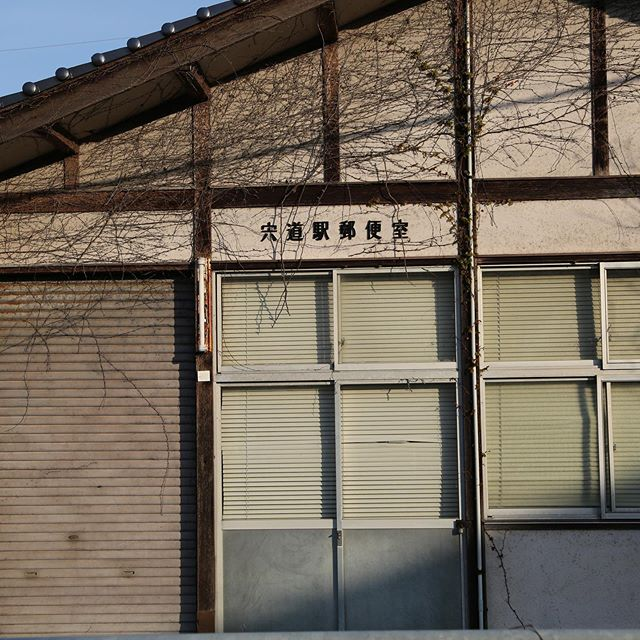building: (2, 1, 639, 632)
sign: (244, 209, 446, 253)
